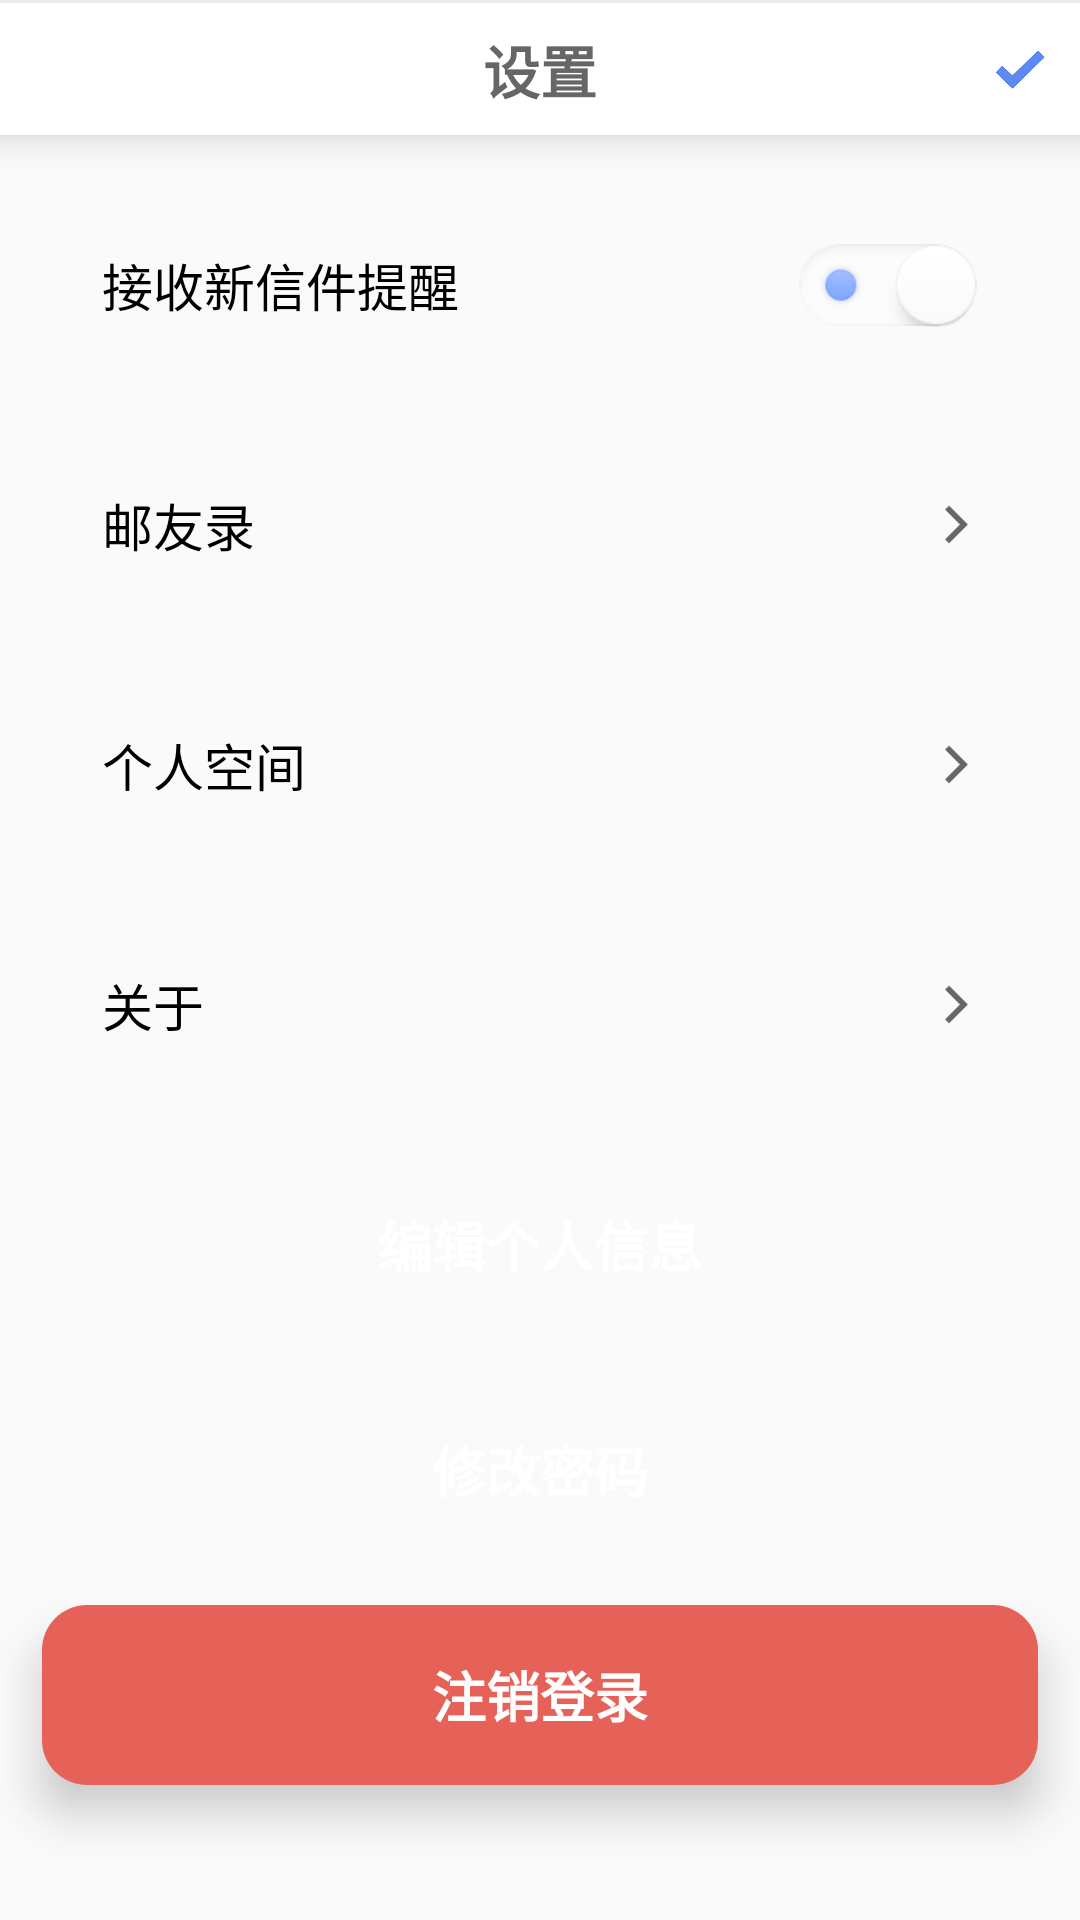

Point at icon controls on the screen. Image size 1080w x 1920h, points as (x=x, y=y).
pointer to right: (x=956, y=524), (x=956, y=764), (x=956, y=1004)
select: (x=1020, y=70)
